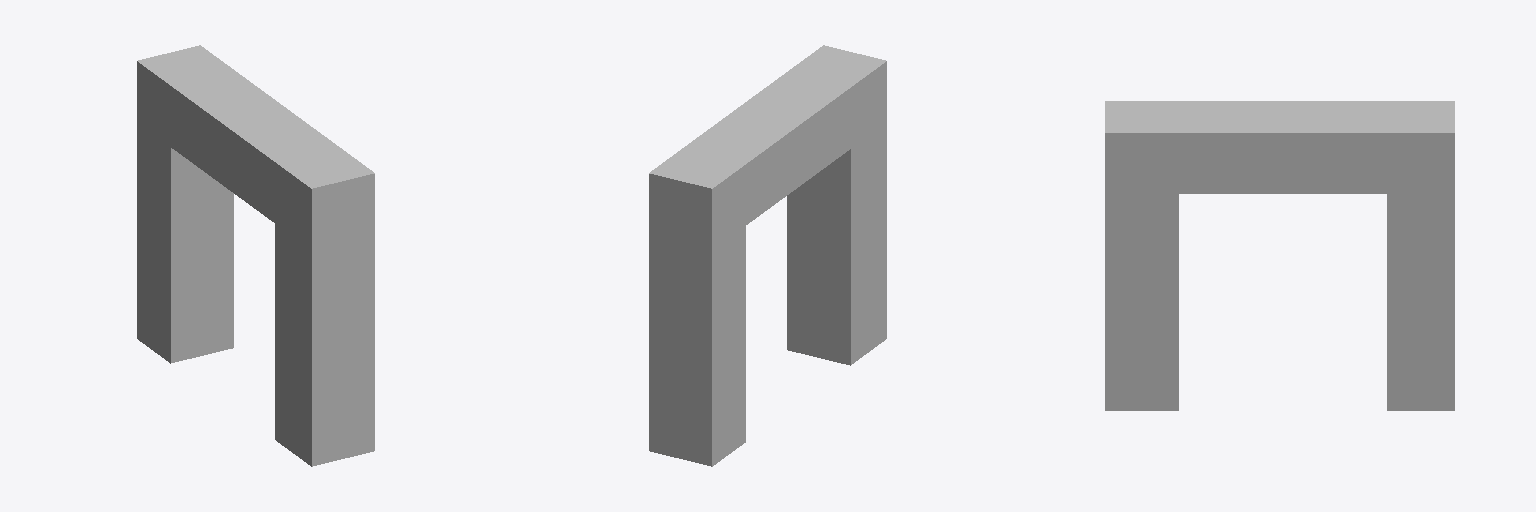
Rendered from arch.obj.
The picture shows the model from 3 angles: view 1: azimuth 30°, elevation 25°; view 2: azimuth 150°, elevation 25°; view 3: azimuth 270°, elevation 25°; orthographic projection.
Parts seen in each view (by area): view 1: Cube; view 2: Cube; view 3: Cube.
Part boxes in pixels (x1,y1,x2,y2): Cube: (137,45,374,466); Cube: (649,45,886,466); Cube: (1105,101,1454,410).
Bounding box in the file's own units: 1.11 × 4.62 × 5.27.